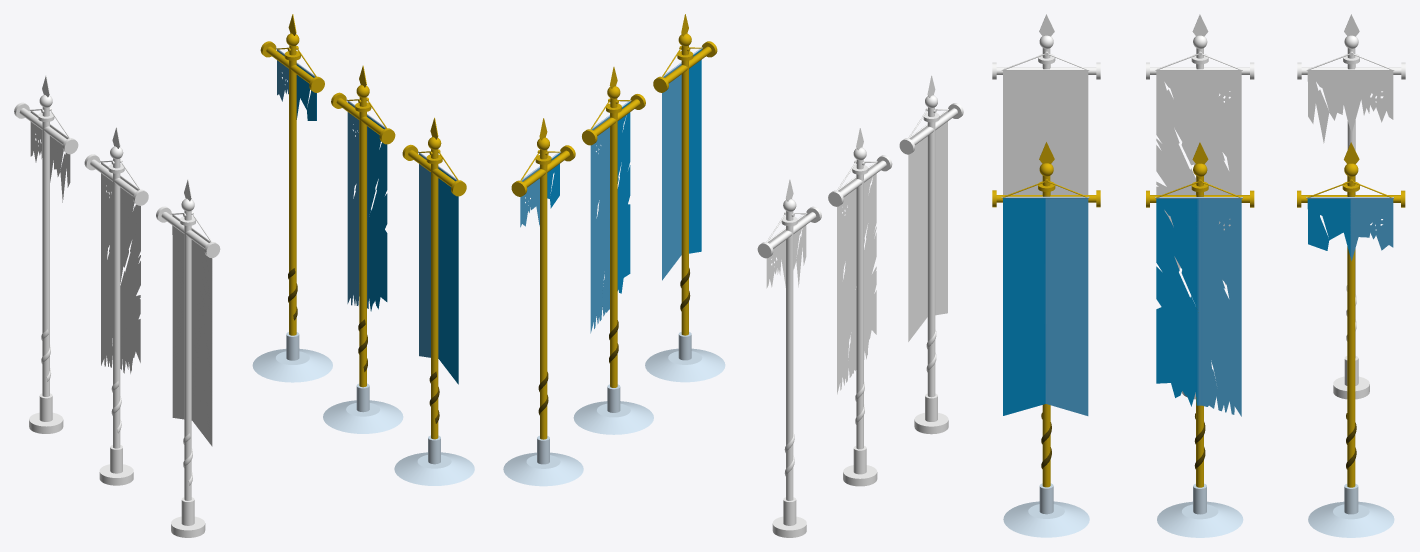
3 views of the same model, side by side, from view 1: azimuth 30°, elevation 25°; view 2: azimuth 150°, elevation 25°; view 3: azimuth 270°, elevation 25° (orthographic). The views are drawn at different scales.
Parts seen in each view (by area): view 1: Plane.001_13, Flag 1_28, Flag 2_29, Plane.003_15, Object_58, Object_70, Object_67, Cylinder.008_8, Cylinder_0, Cylinder.004_4, Object_71, Object_68 (+6 smaller); view 2: Flag 1_28, Plane.001_13, Flag 2_29, Plane.003_15, Object_70, Object_58, Object_67, Cylinder_0, Cylinder.008_8, Cylinder.004_4, Object_59, Object_68 (+6 smaller); view 3: Flag 1_28, Flag 2_29, Plane.001_13, Plane.003_15, Plane.006_18, Flag 3_30, Object_70, Object_59, Object_71, Object_68, Object_58, Object_67 (+4 smaller).
Boxes of the visible parts, x1=… form: Plane.001_13: x1=172, y1=215, x2=212, y2=446; Flag 1_28: x1=419, y1=153, x2=458, y2=384; Flag 2_29: x1=347, y1=101, x2=387, y2=311; Plane.003_15: x1=101, y1=163, x2=140, y2=373; Object_58: x1=402, y1=117, x2=466, y2=439; Object_70: x1=260, y1=14, x2=324, y2=335; Object_67: x1=331, y1=65, x2=395, y2=387; Cylinder.008_8: x1=29, y1=107, x2=63, y2=433; Cylinder_0: x1=171, y1=210, x2=205, y2=537; Cylinder.004_4: x1=99, y1=158, x2=133, y2=485; Object_71: x1=252, y1=48, x2=332, y2=382; Object_68: x1=323, y1=99, x2=403, y2=433; Flag 1_28: x1=662, y1=49, x2=701, y2=280; Plane.001_13: x1=908, y1=111, x2=947, y2=341; Flag 2_29: x1=590, y1=102, x2=630, y2=333; Plane.003_15: x1=837, y1=163, x2=876, y2=394; Object_70: x1=511, y1=118, x2=575, y2=439; Object_58: x1=653, y1=14, x2=717, y2=335; Object_67: x1=582, y1=67, x2=645, y2=387; Cylinder_0: x1=914, y1=107, x2=948, y2=434; Cylinder.008_8: x1=772, y1=211, x2=806, y2=537; Cylinder.004_4: x1=843, y1=159, x2=877, y2=486; Object_59: x1=645, y1=47, x2=725, y2=382; Object_68: x1=573, y1=100, x2=653, y2=434; Flag 1_28: x1=1003, y1=198, x2=1088, y2=415; Flag 2_29: x1=1156, y1=198, x2=1241, y2=416; Plane.001_13: x1=1003, y1=70, x2=1088, y2=194; Plane.003_15: x1=1156, y1=70, x2=1241, y2=284; Plane.006_18: x1=1307, y1=70, x2=1393, y2=143; Flag 3_30: x1=1307, y1=198, x2=1393, y2=260; Object_70: x1=1297, y1=142, x2=1405, y2=487; Object_59: x1=1001, y1=196, x2=1089, y2=537; Object_71: x1=1306, y1=197, x2=1394, y2=537; Object_68: x1=1155, y1=197, x2=1243, y2=537; Object_58: x1=992, y1=142, x2=1100, y2=487; Object_67: x1=1146, y1=142, x2=1254, y2=487.
Bounding box in the file's own units: 6.22 × 7.09 × 7.
Materials: 3 (2 with a texture image).
